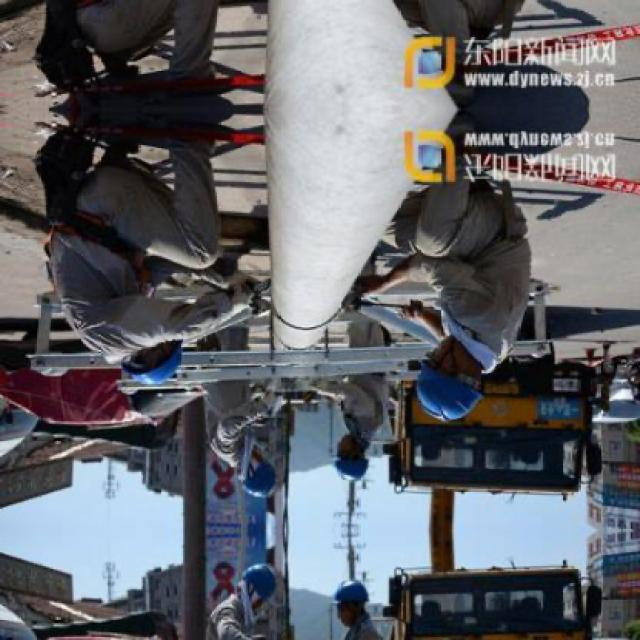con casco: (408, 339, 504, 422), (100, 320, 196, 385), (212, 460, 297, 510), (307, 431, 372, 491)
